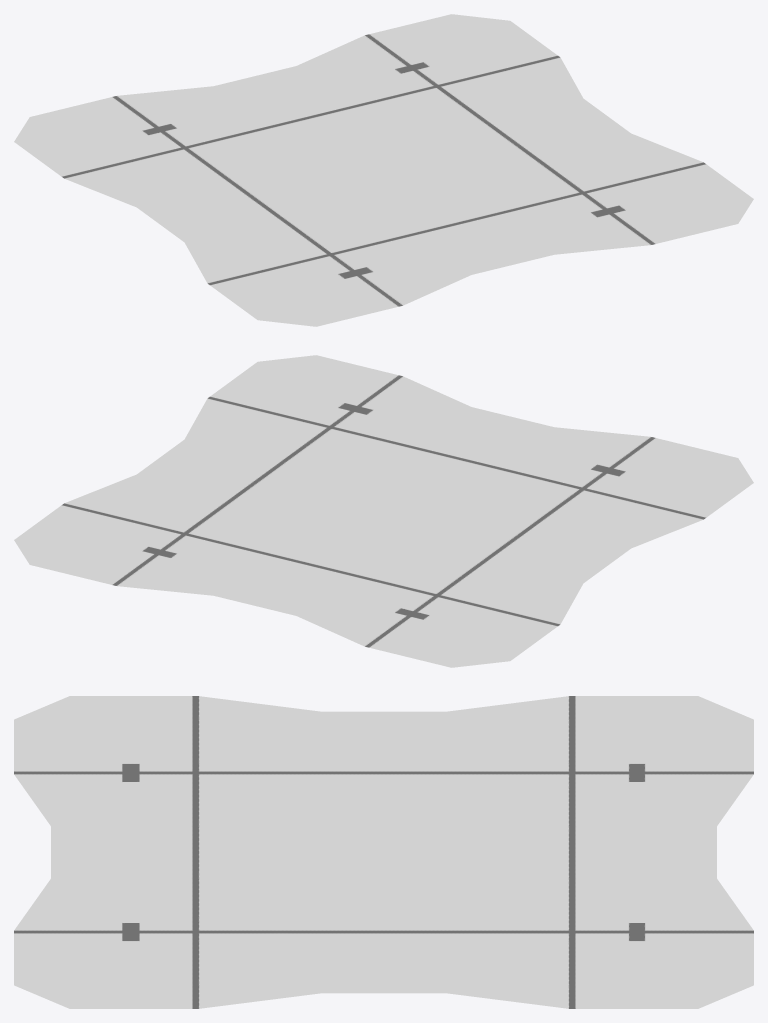
File: ceiling1.fbx
The picture shows the model from 3 angles, top to bottom: view 1: azimuth 30°, elevation 25°; view 2: azimuth 150°, elevation 25°; view 3: azimuth 270°, elevation 25°; orthographic projection. The views are drawn at different scales.
Visible parts, largest first — view 1: Plane; view 2: Plane; view 3: Plane.
Part boxes in pixels (x1=…): Plane: x1=14, y1=14, x2=753, y2=326; Plane: x1=14, y1=355, x2=753, y2=667; Plane: x1=14, y1=696, x2=753, y2=1008.
Size of the model in its own units: 200 by 3.26e-05 by 200.
Materials: 1 (1 with a texture image).
